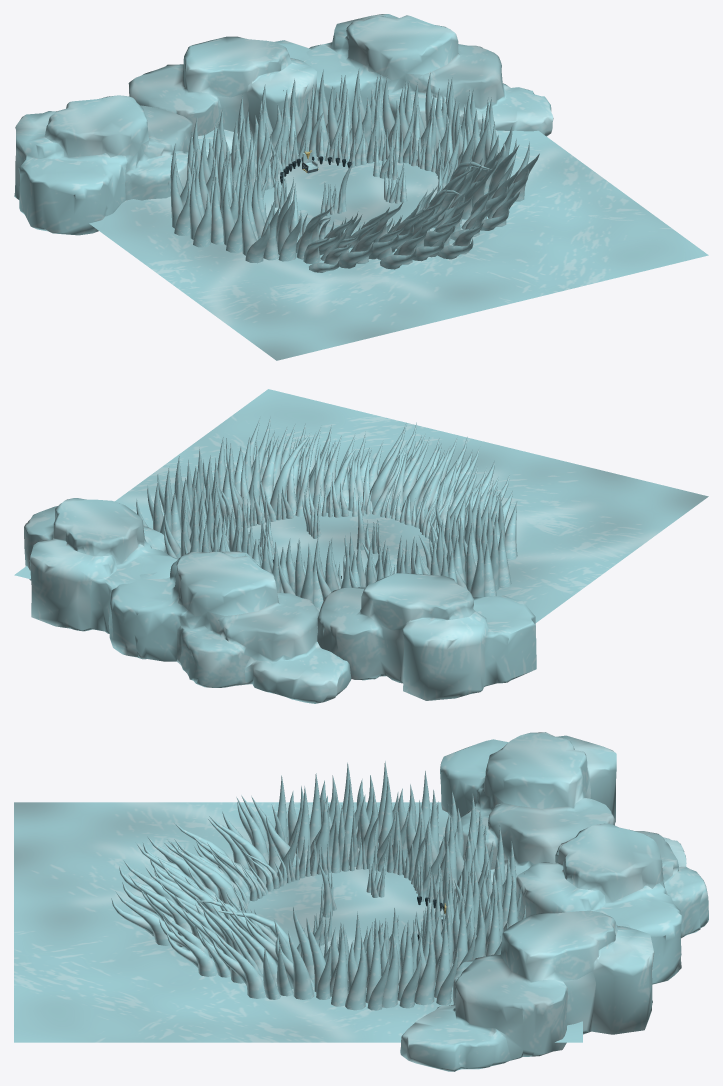
3 views of the same model, one above another, from view 1: azimuth 30°, elevation 25°; view 2: azimuth 150°, elevation 25°; view 3: azimuth 270°, elevation 25° (orthographic). The views are drawn at different scales.
Parts seen in each view (by area): view 1: polySurface97; view 2: polySurface97; view 3: polySurface97.
Part boxes in pixels (x1,y1,x2,y2): polySurface97: [14, 14, 708, 360]; polySurface97: [14, 389, 708, 703]; polySurface97: [14, 732, 708, 1071].
Size of the model in its own units: 664 by 102 by 697.
